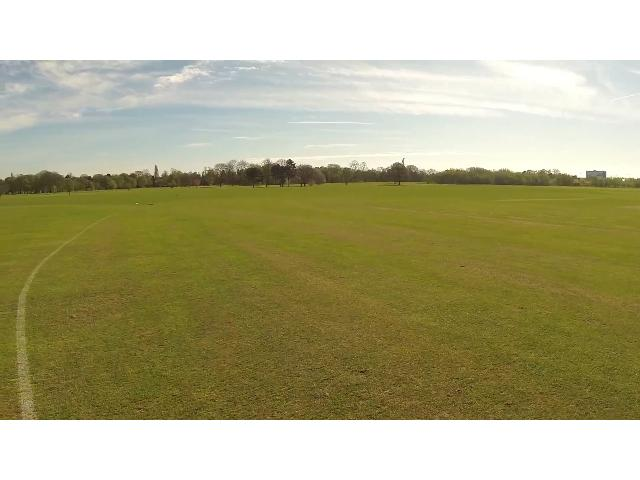Anti-Drone: (395, 154, 411, 170)
